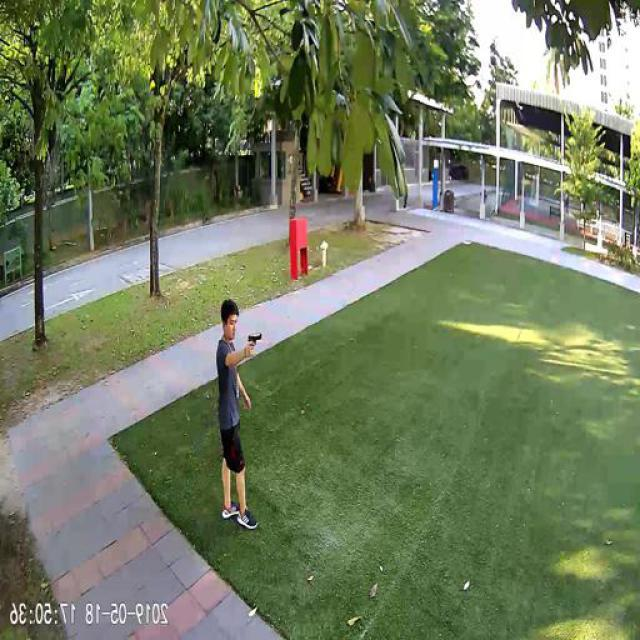Gun: (248, 329, 264, 345)
